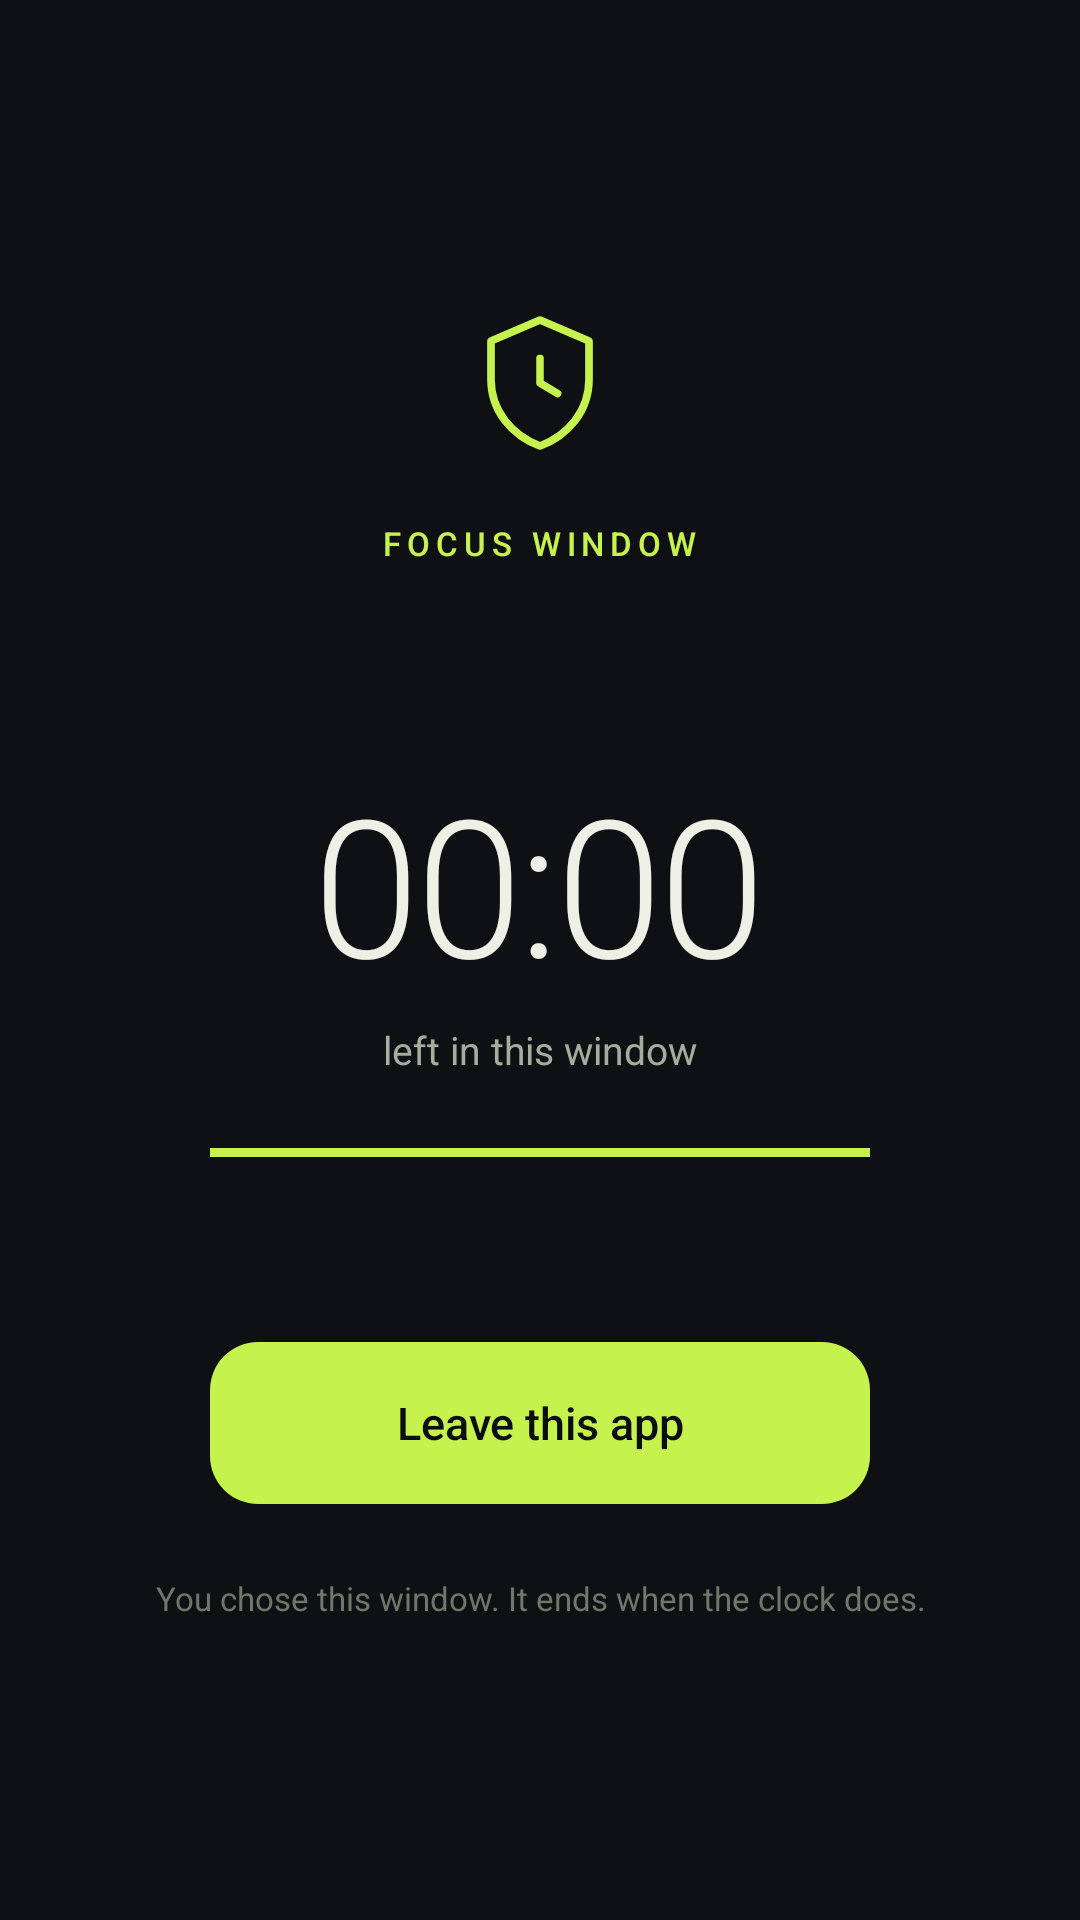

Icons on this 1080x1920 Android screen, each with the point to tap as [x,y]:
block shield: [540,383]
